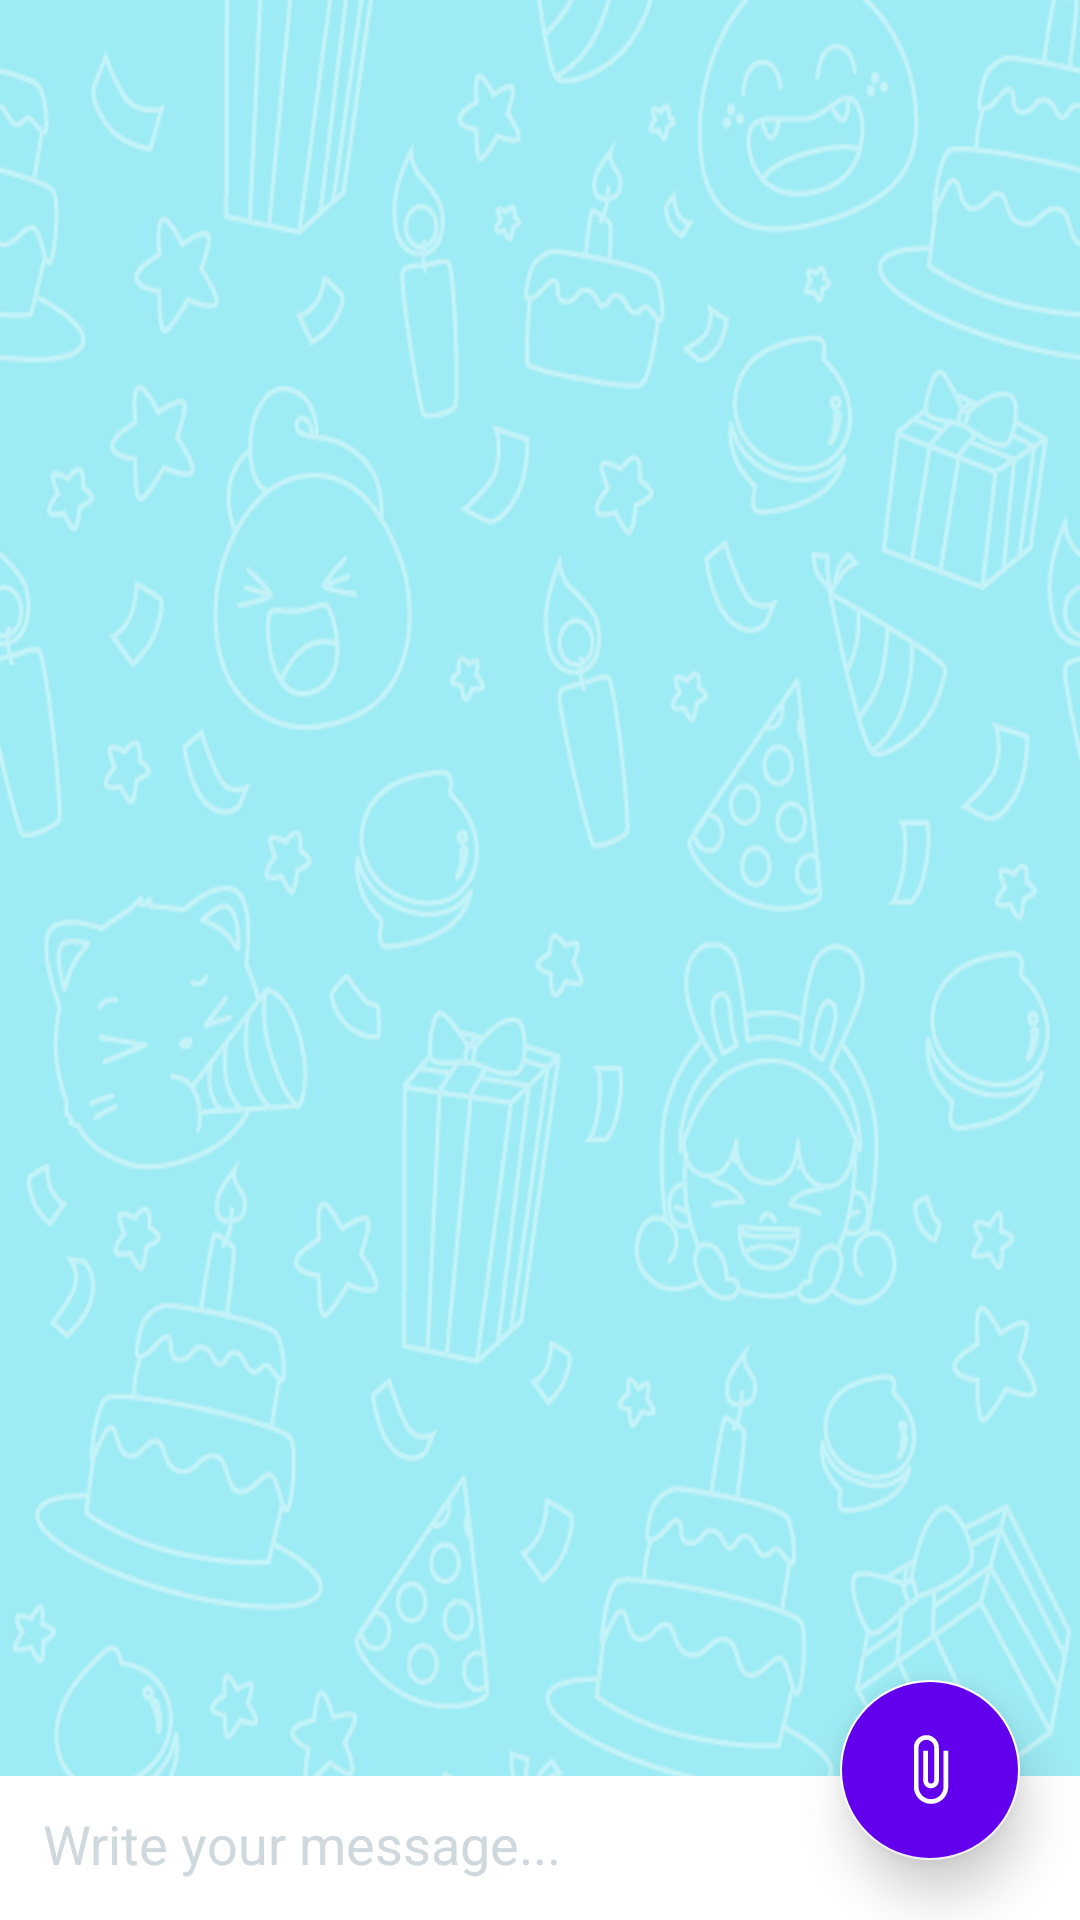

Icons on this 1080w x 1920h Android screen, each with the point to tap as [x,y]:
file: [930,1770]
